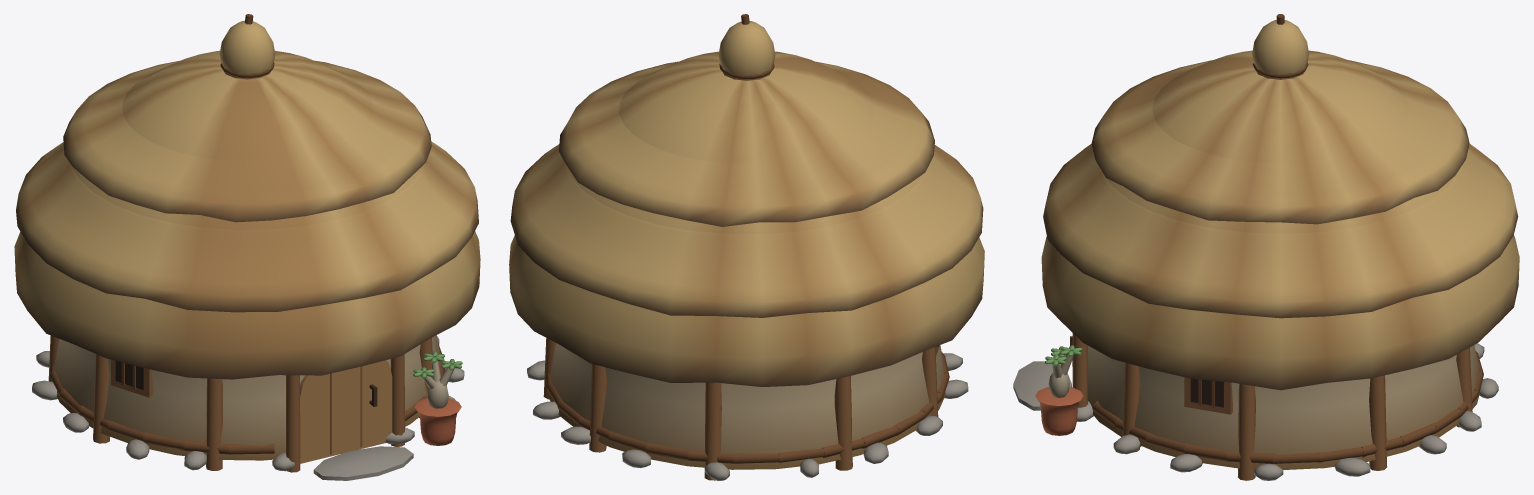
Rendered from beehive.glb.
3 renders of one model, left to right at view 1: azimuth 30°, elevation 25°; view 2: azimuth 150°, elevation 25°; view 3: azimuth 270°, elevation 25°, orthographic. The views are drawn at different scales.
Parts seen in each view (by area): view 1: beehive; view 2: beehive; view 3: beehive.
Part boxes in pixels (x1,y1,x2,y2): beehive: [14, 14, 480, 480]; beehive: [509, 14, 984, 480]; beehive: [1013, 14, 1519, 480].
Size of the model in its own units: 4.02 by 3.54 by 4.26.
